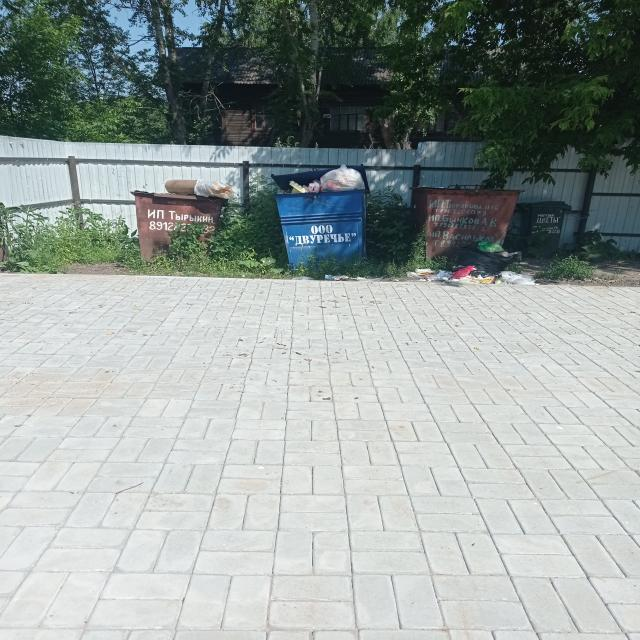bin: (272, 165, 370, 273), (411, 187, 521, 265), (130, 191, 228, 267), (517, 201, 572, 255)
plastic: (405, 241, 539, 285), (277, 164, 365, 194), (165, 179, 235, 199), (324, 274, 384, 281)
